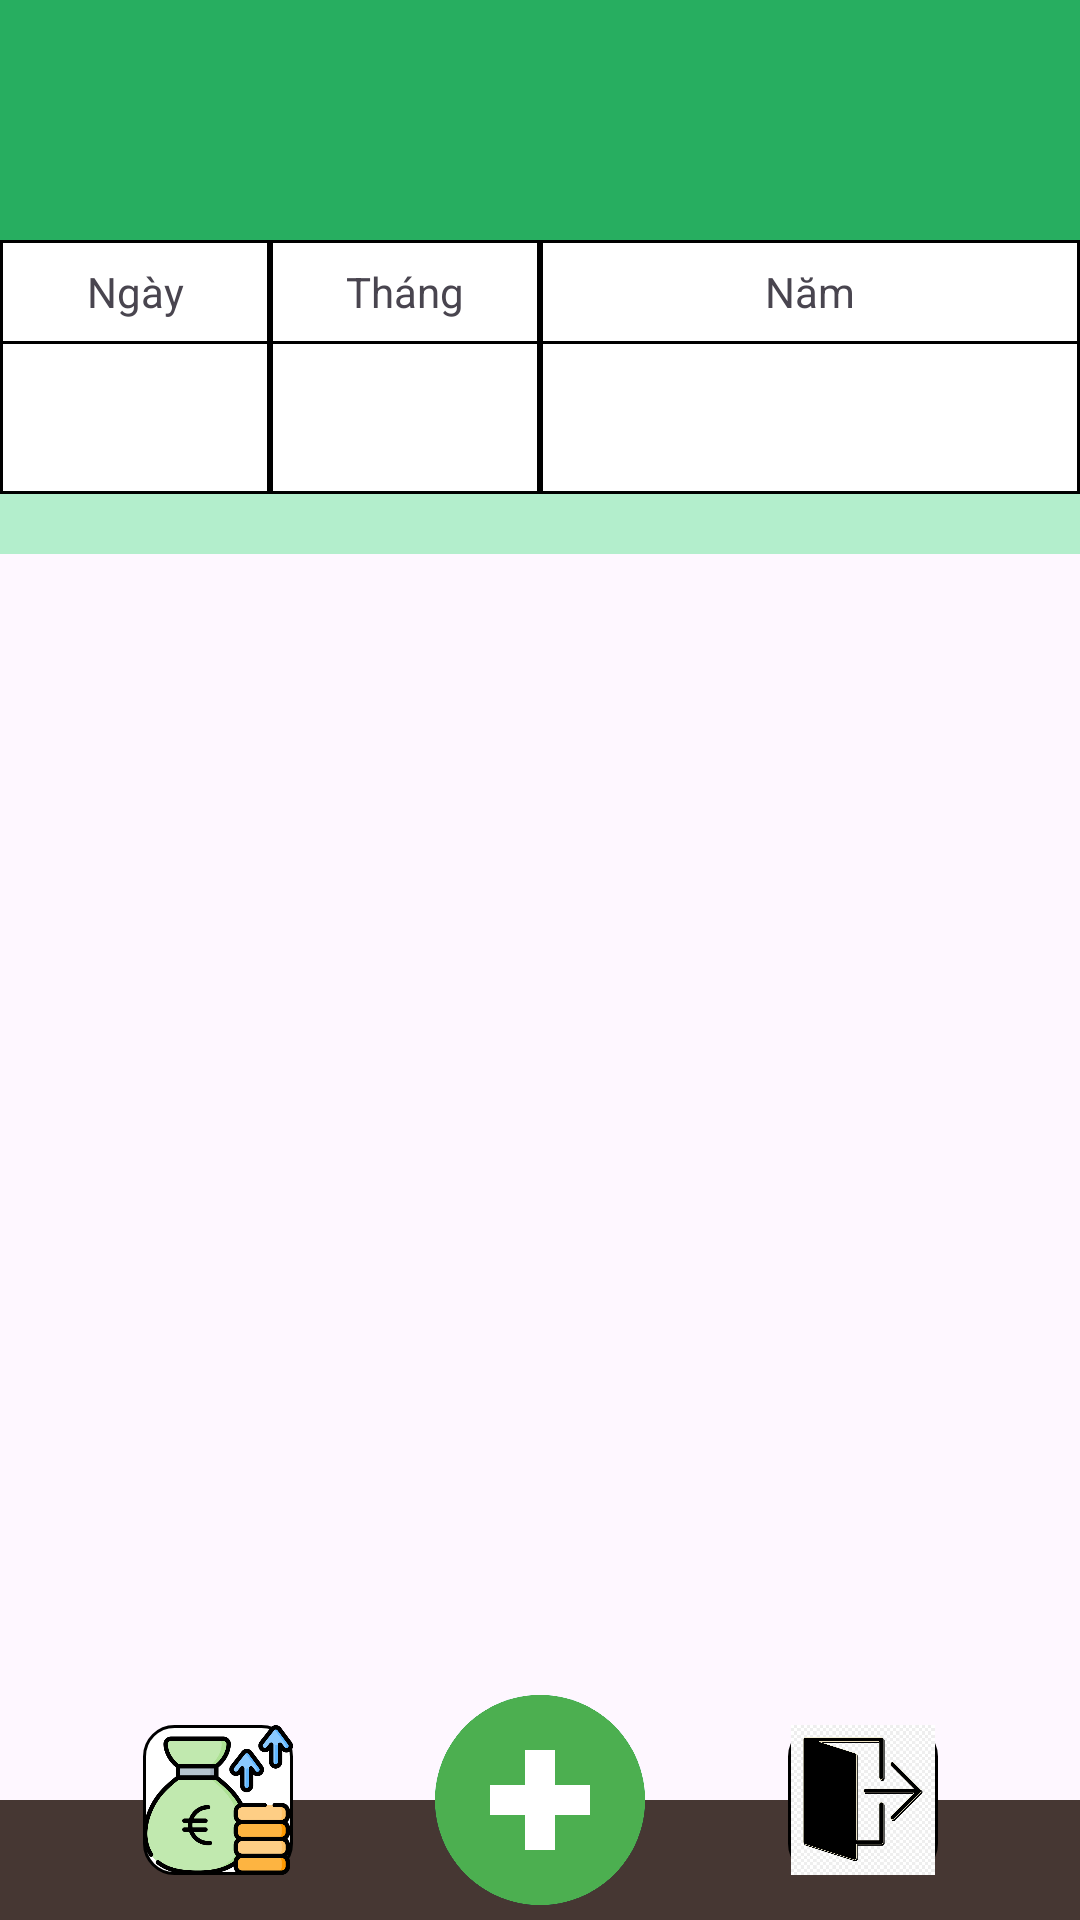

Named icons in this screenshot (1080 x 1920) and their centers, [x,y]:
exit: [863,1800]
income: [218,1800]
plus: [540,1800]
